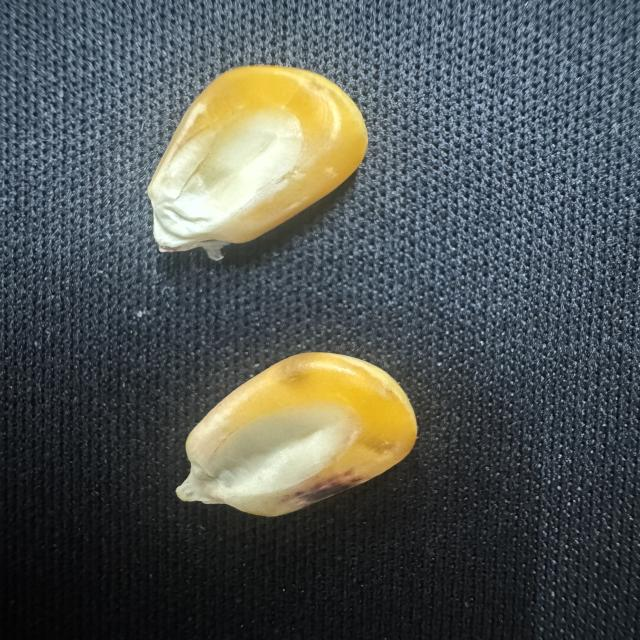Bad-Seed: (166, 344, 431, 530)
Good-Seed: (132, 59, 370, 266)
